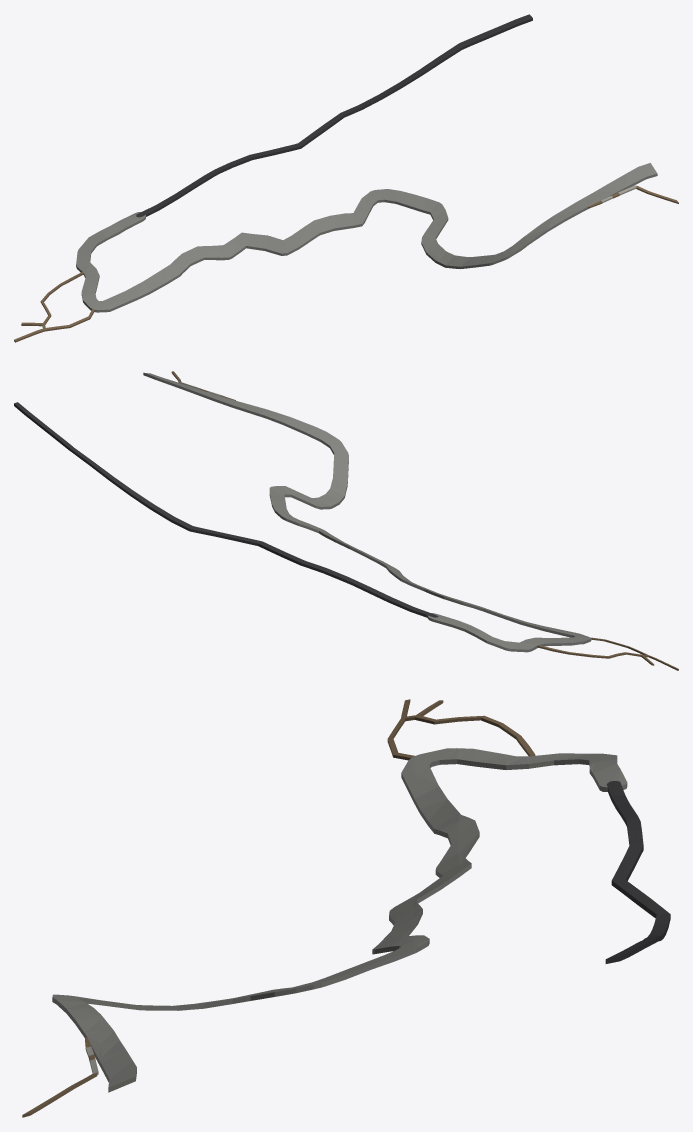
3 renders of one model, top to bottom at view 1: azimuth 30°, elevation 25°; view 2: azimuth 150°, elevation 25°; view 3: azimuth 270°, elevation 25°, orthographic. The views are drawn at different scales.
Size of the model in its own units: 293 by 74.32 by 145.
